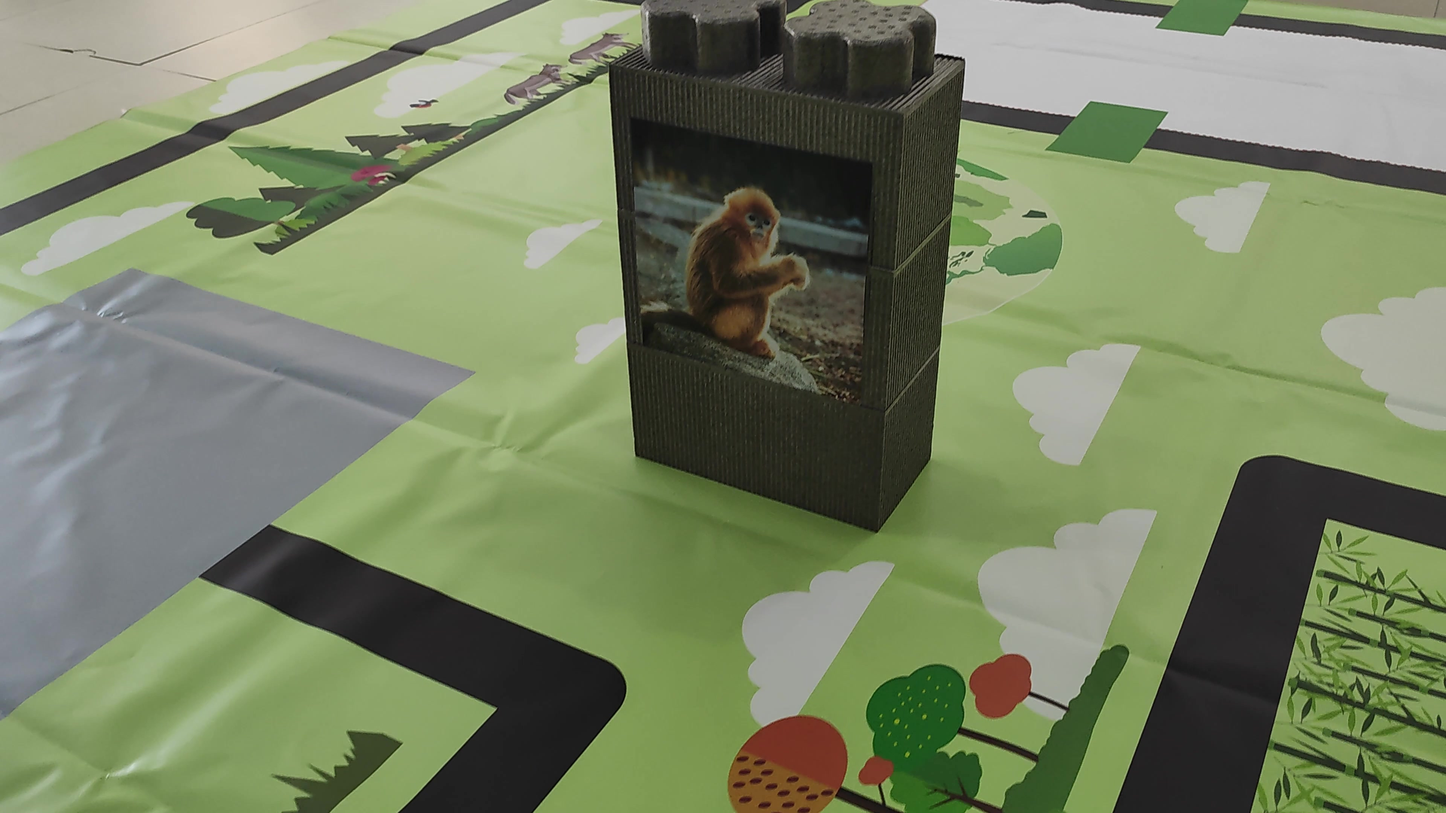monkey: (631, 147, 840, 368)
